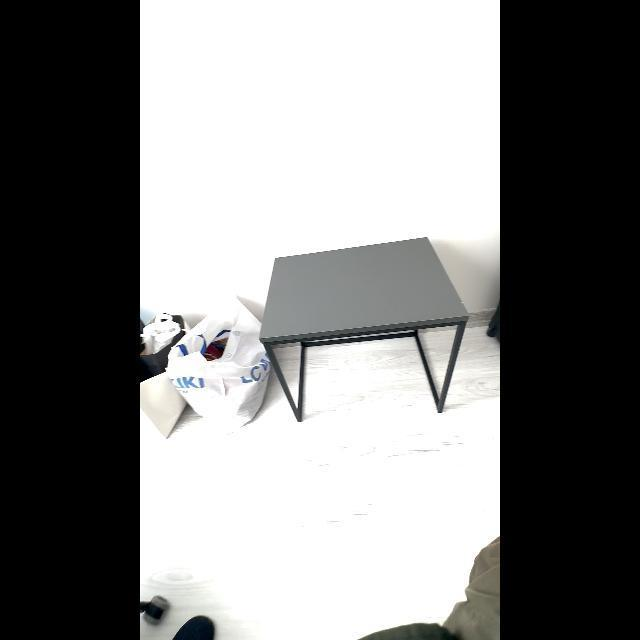coffee table: (252, 231, 470, 429)
